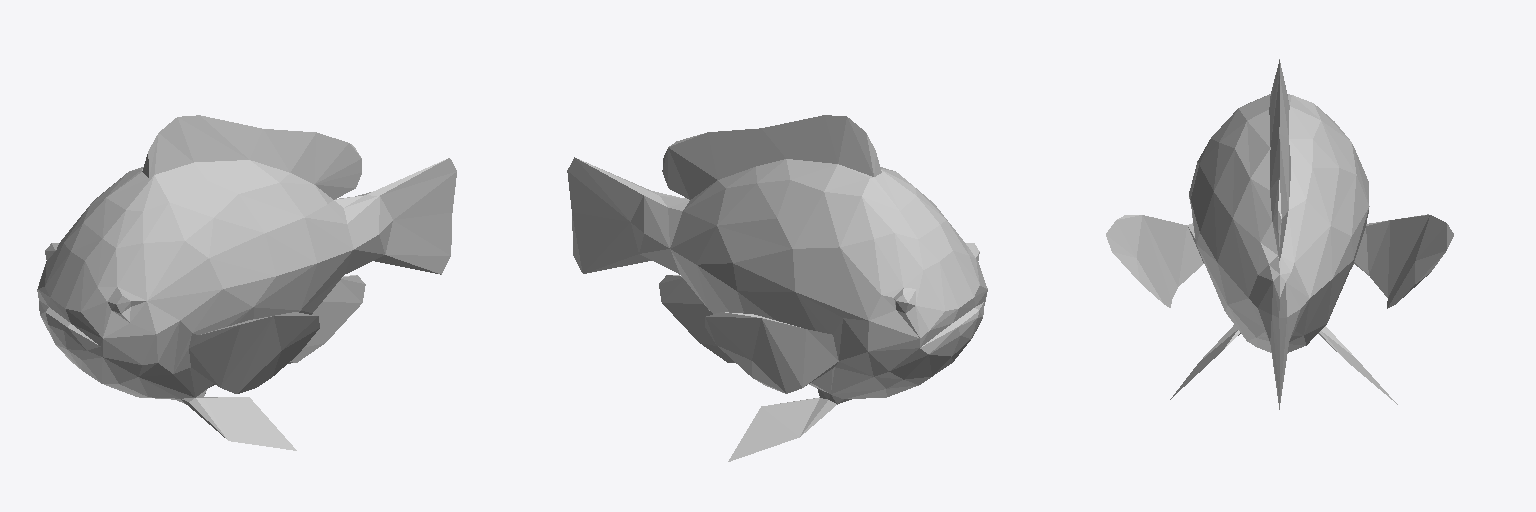
Rendered from fish.obj.
3 renders of one model, left to right at view 1: azimuth 30°, elevation 25°; view 2: azimuth 150°, elevation 25°; view 3: azimuth 270°, elevation 25°, orthographic.
Parts seen in each view (by area): view 1: fish1.001_12265_Fish; view 2: fish1.001_12265_Fish; view 3: fish1.001_12265_Fish.
Boxes of the visible parts, <box> form: fish1.001_12265_Fish: <box>37,115,456,450</box>; fish1.001_12265_Fish: <box>567,115,987,461</box>; fish1.001_12265_Fish: <box>1106,59,1453,409</box>.
Bounding box in the file's own units: 1.2 × 0.9043 × 0.9014.